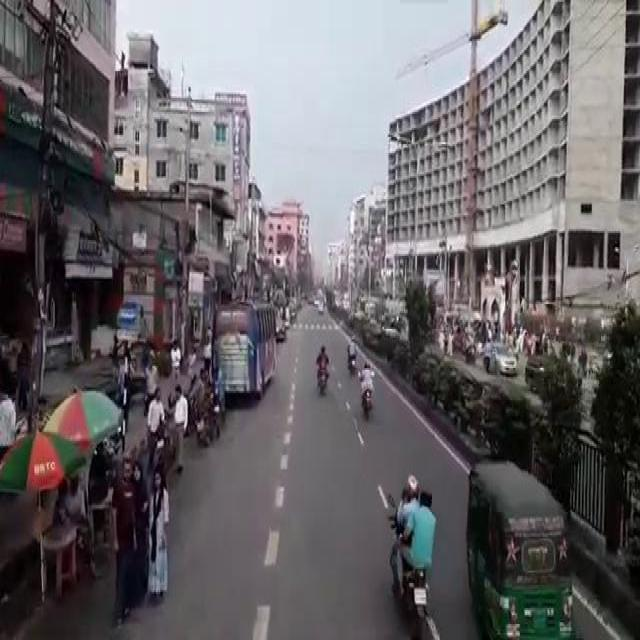Bus: (209, 295, 277, 402)
Motorcycle: (357, 368, 375, 420), (316, 357, 329, 395), (346, 345, 356, 375)
TokTok: (465, 455, 575, 638)
